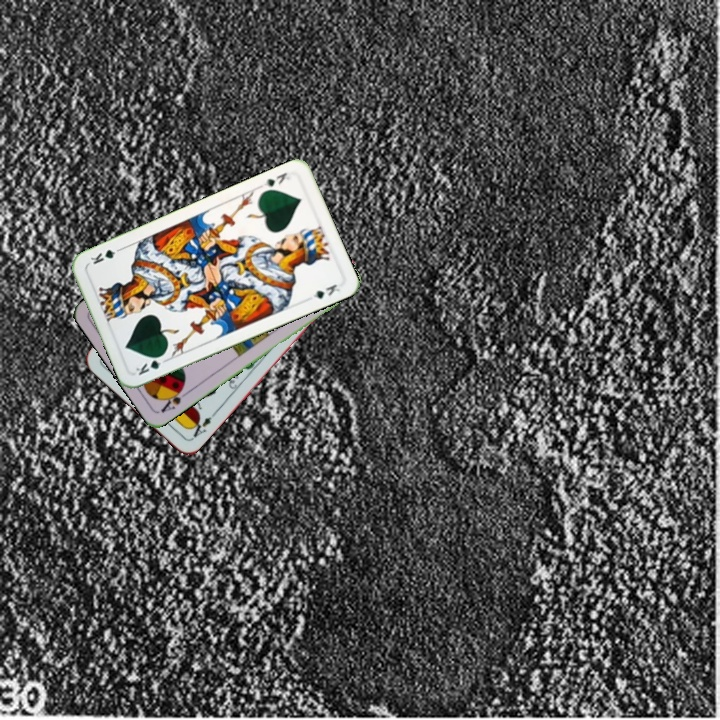EA: (185, 408, 218, 442)
GK: (132, 350, 170, 378), (260, 168, 292, 189)
SA: (157, 382, 192, 415)
